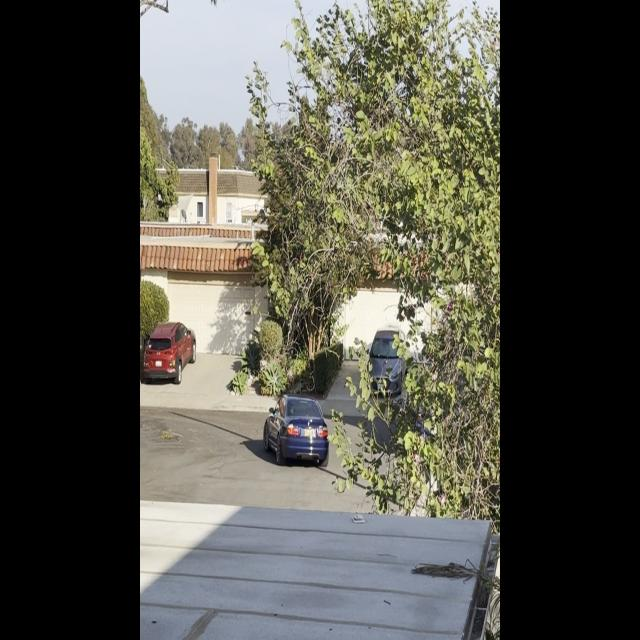Carbeetle: (258, 384, 330, 473)
Civilian: (140, 318, 199, 383), (363, 320, 409, 403)
